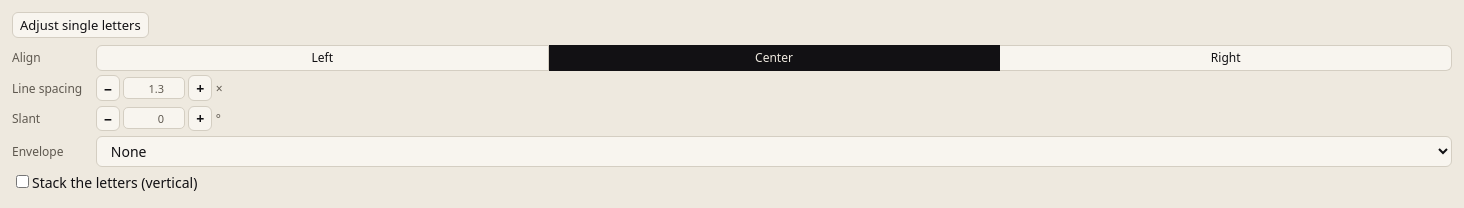
Test: what shows under More options › stacked letters turn the envelope off, saying why, and have no alignment
Click the checkbox labelled "Stack the letters (vertical)".
click(22, 181)  # box [16,175,29,188]
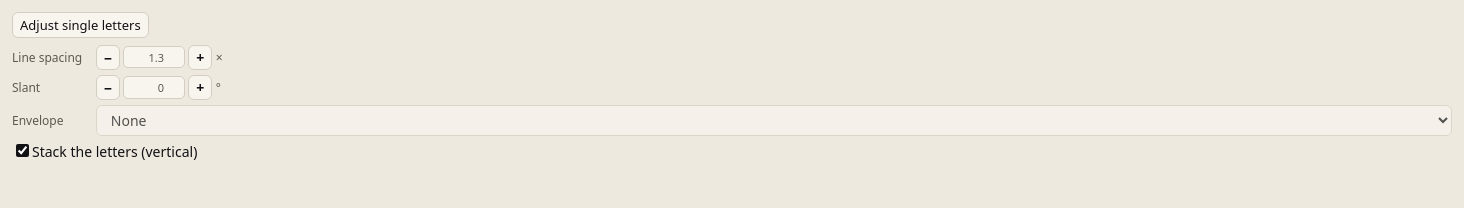
Check: the dropdown named "Envelope" is disabled, box [96,105,1452,136]
Click the checkbox labelled "Stack the letters (vertical)".
click(22, 150)  # box [16,144,29,157]
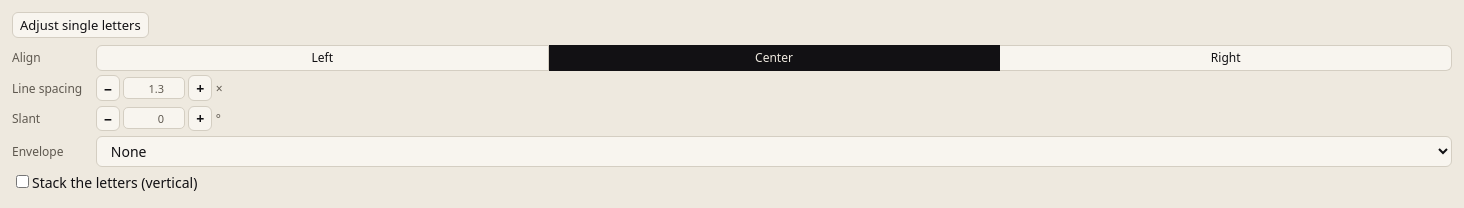
Check: the dropdown named "Envelope" is enabled, box [96,136,1452,167]
